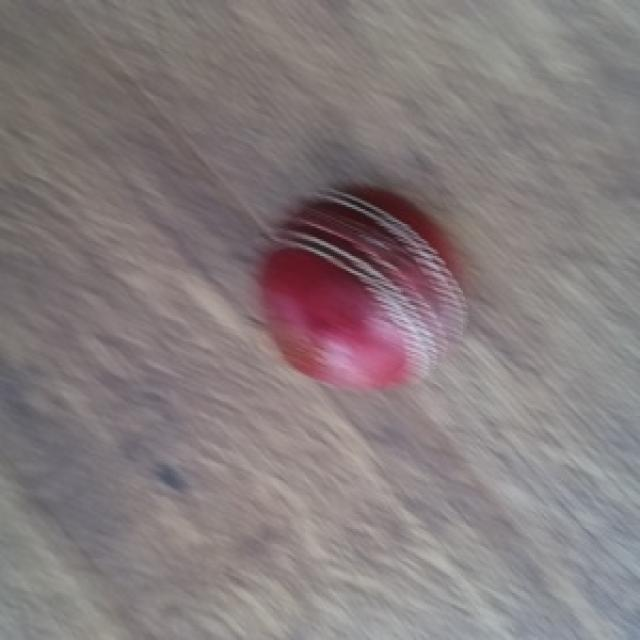ball: (267, 192, 466, 398)
